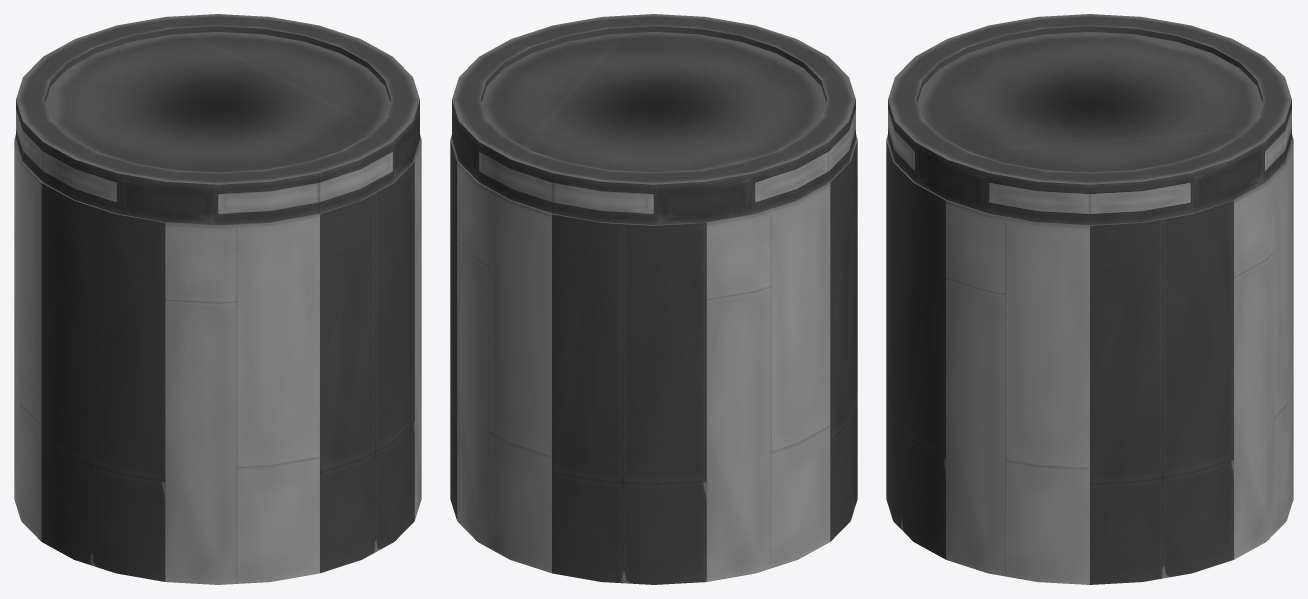
File: Titan_15mLR87.dae
3 views of the same model, side by side, from view 1: azimuth 30°, elevation 25°; view 2: azimuth 150°, elevation 25°; view 3: azimuth 270°, elevation 25° (orthographic).
Parts seen in each view (by area): view 1: fairing, pCylinder45; view 2: fairing, pCylinder45; view 3: fairing, pCylinder45.
Part boxes in pixels (<box>): fairing: <box>14,135,421,584</box>; pCylinder45: <box>16,14,419,224</box>; fairing: <box>450,135,857,584</box>; pCylinder45: <box>452,14,855,224</box>; fairing: <box>886,135,1293,584</box>; pCylinder45: <box>888,14,1291,224</box>.
Bounding box in the file's own units: 1.53 × 1.67 × 1.53.
